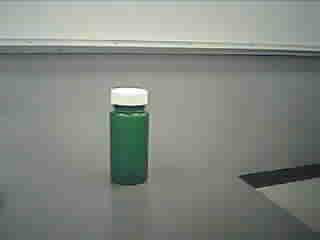Bottle C: (102, 82, 158, 193)
